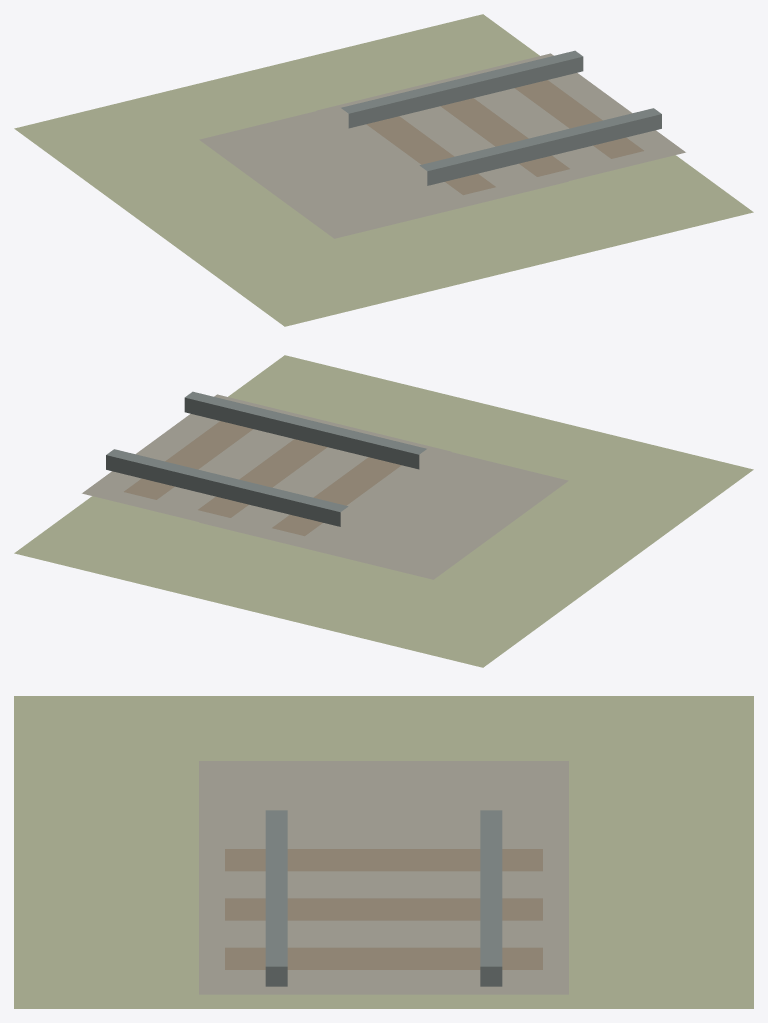
3 renders of one model, top to bottom at view 1: azimuth 30°, elevation 25°; view 2: azimuth 150°, elevation 25°; view 3: azimuth 270°, elevation 25°, orthographic. The views are drawn at different scales.
Visible parts, largest first — view 1: Near; view 2: Near; view 3: Near.
Boxes of the visible parts, x1=… form: Near: x1=14, y1=14, x2=753, y2=326; Near: x1=14, y1=355, x2=753, y2=667; Near: x1=14, y1=696, x2=753, y2=1008.
Size of the model in its own units: 1 by 0.063 by 1.
